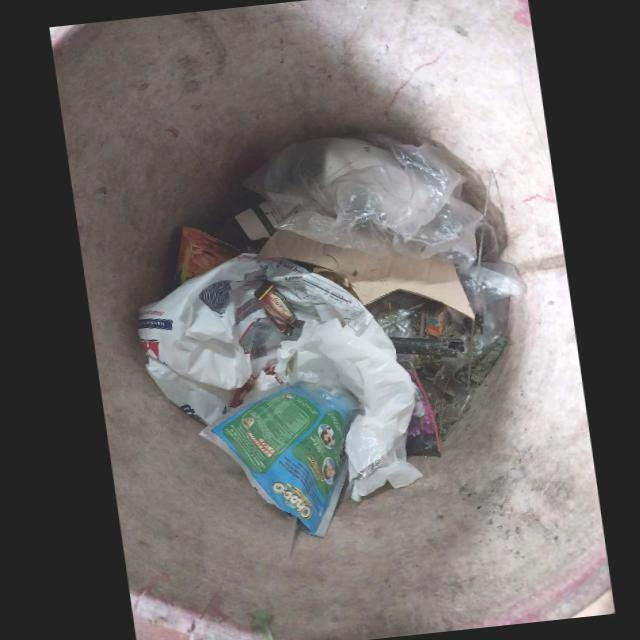cardboard: (254, 229, 471, 318)
food_wrapper: (162, 226, 245, 295), (252, 279, 302, 336)
plastic_bag: (134, 258, 417, 502), (240, 133, 504, 278)
plastic_sachet: (196, 381, 361, 538), (395, 361, 438, 457)
